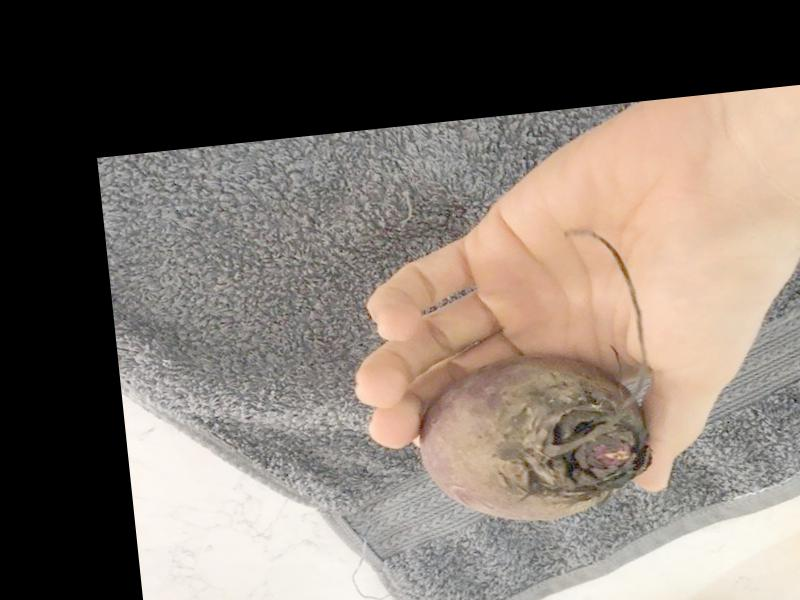Beet: (396, 224, 655, 533)
